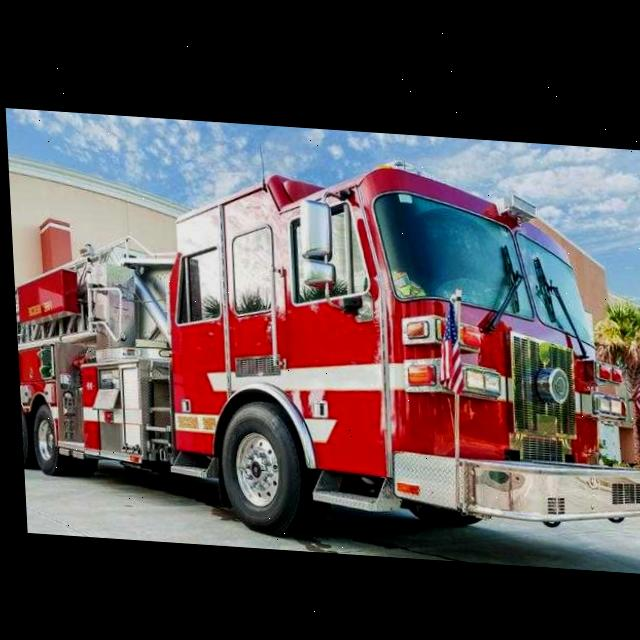emergency: (5, 130, 640, 551)
